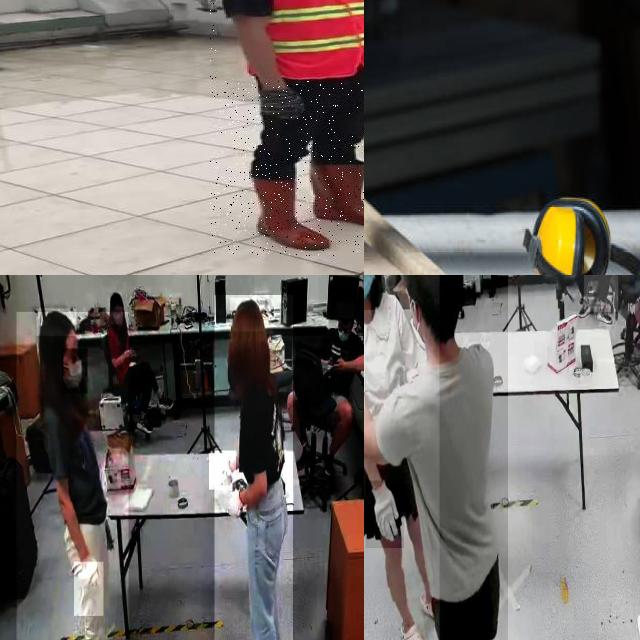Ear-protection: (519, 185, 640, 275)
boots: (243, 173, 331, 254), (307, 157, 364, 228)
face_mask: (62, 348, 88, 394), (336, 319, 352, 351)
face_nomask: (111, 307, 123, 325)
hand_glove: (366, 481, 404, 549), (74, 562, 104, 616), (209, 450, 236, 490), (227, 486, 244, 531)
hand_noglove: (123, 348, 137, 358)
head_nohelmet: (230, 298, 266, 332), (37, 308, 77, 337), (337, 303, 355, 319), (108, 290, 124, 304)
person: (364, 275, 508, 640), (210, 0, 364, 256), (16, 311, 129, 640), (364, 275, 439, 640), (214, 295, 293, 640), (101, 287, 173, 429), (310, 299, 364, 457), (583, 275, 618, 312)
shoes: (156, 385, 177, 412), (133, 408, 153, 436), (597, 300, 613, 325), (578, 297, 591, 320)
vest: (217, 0, 364, 81)
